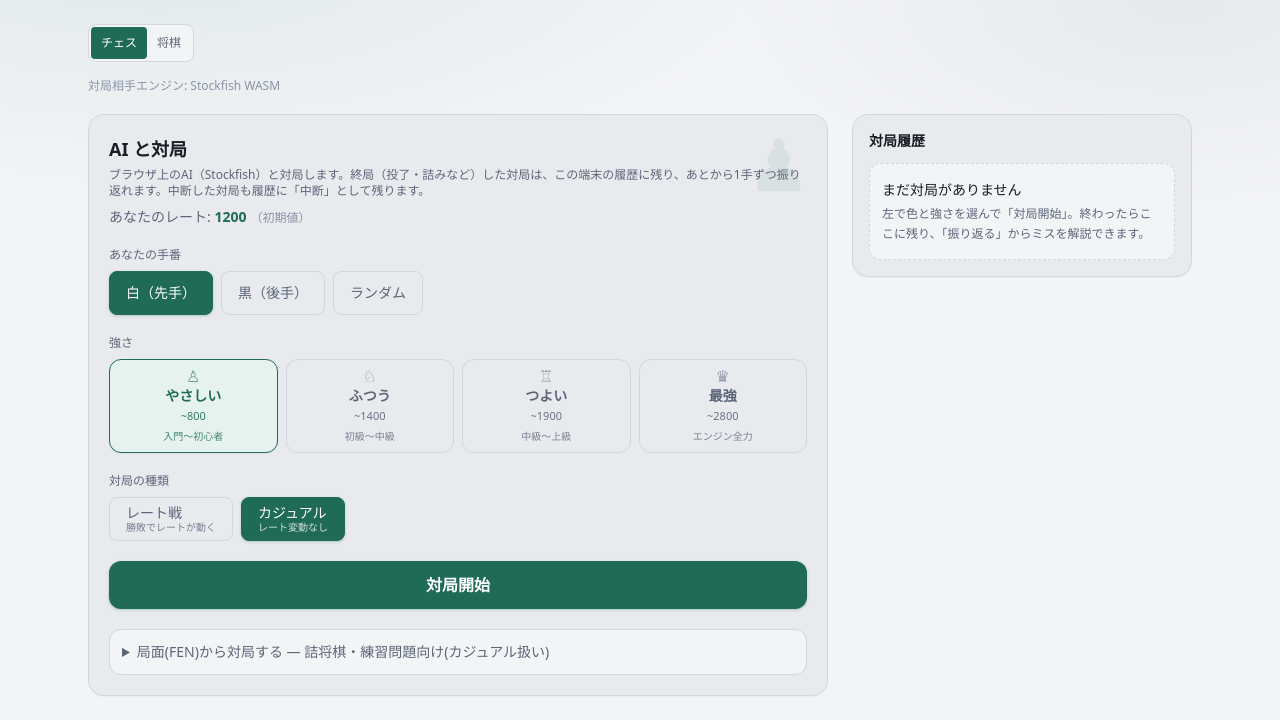
Scenario: PlayView 状態機械（チェス） › レート戦で開始即投了(0手): 履歴は保存されないがレートは下がる（逃げ得防止）
Expected: the button "対局開始" is enabled, 109,560 -> 807,608
Click the button "レート戦 勝敗でレートが動く": (171, 518) 109,496 -> 233,540
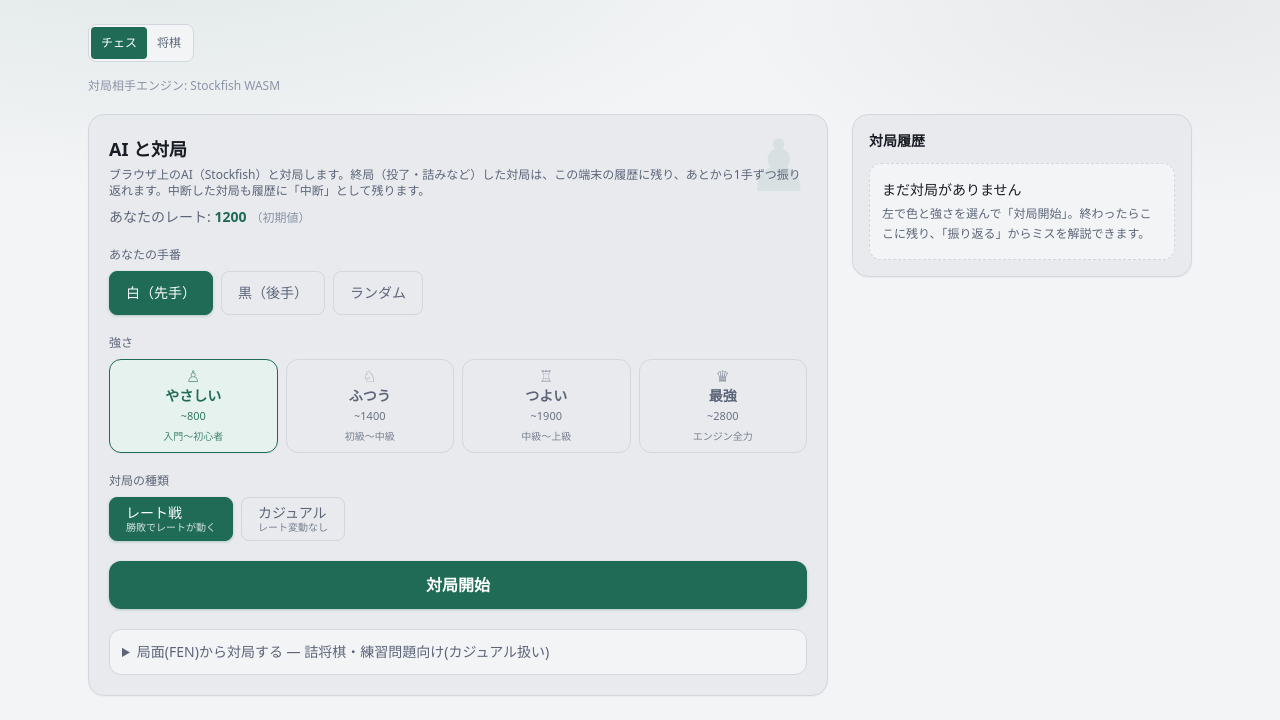
Click the button "対局開始": (458, 584) 109,560 -> 807,608
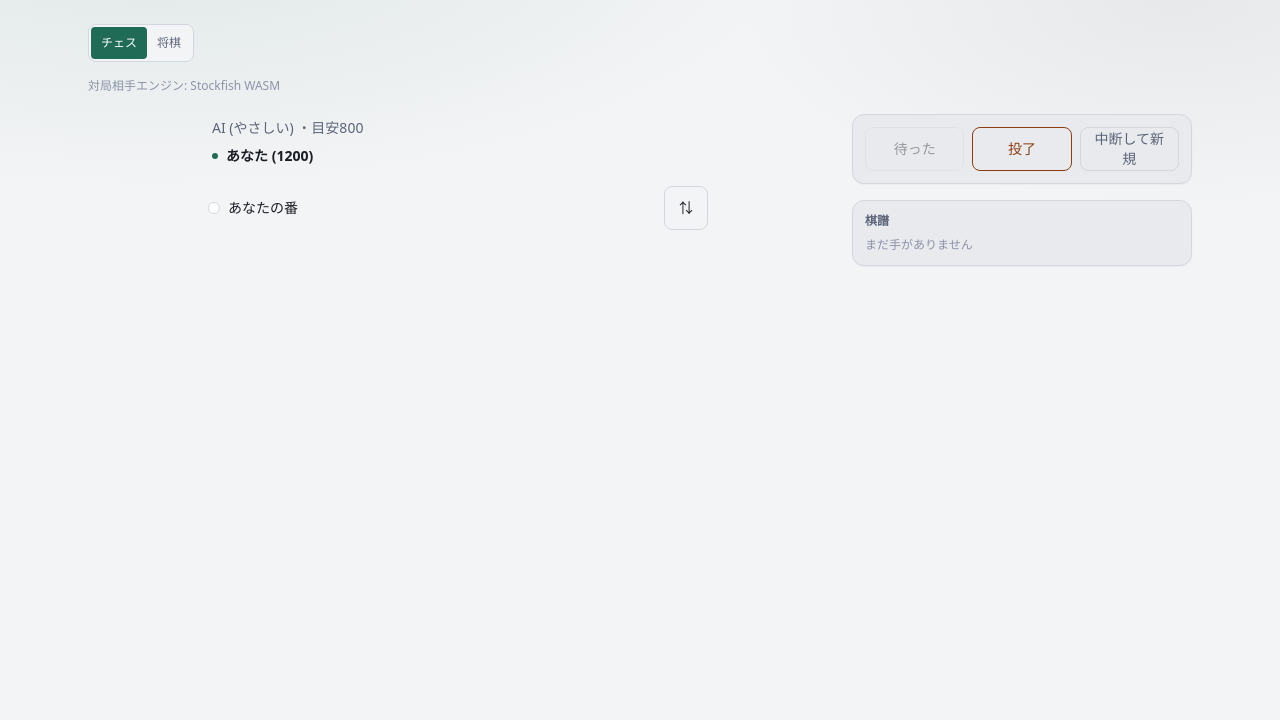
Click the button "投了": (1022, 149) 972,127 -> 1072,171
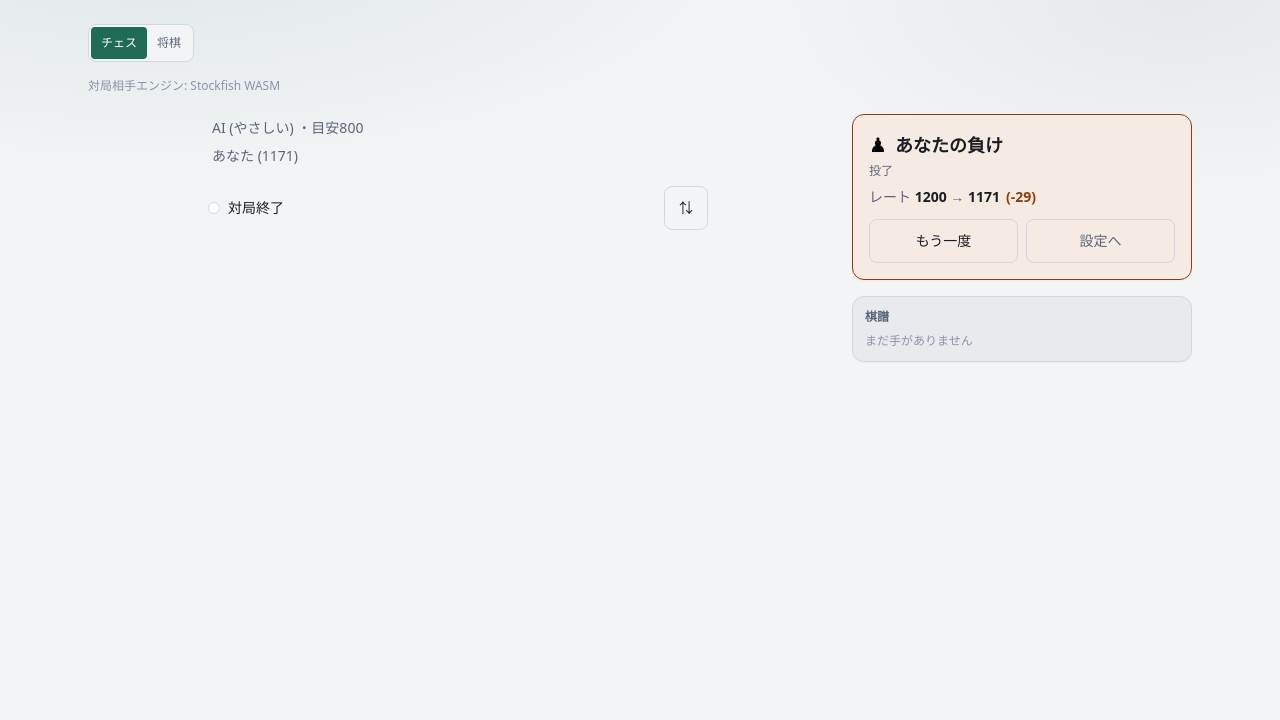
Expected: the text "あなたの負け" is shown, 895,131 -> 1003,159
